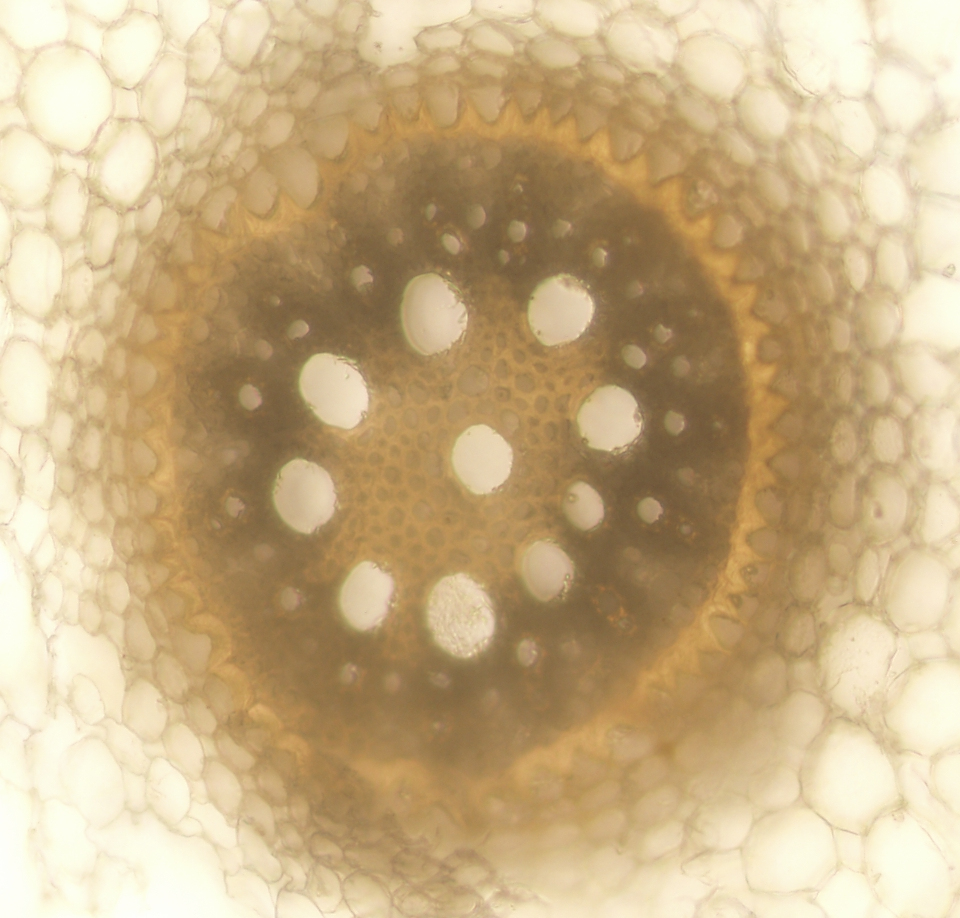lm: (423, 571, 495, 658), (398, 273, 468, 355), (299, 350, 369, 430), (271, 456, 337, 536), (526, 274, 594, 345), (575, 384, 643, 452), (451, 424, 514, 495), (338, 560, 394, 631), (519, 539, 577, 603), (561, 478, 604, 532)
